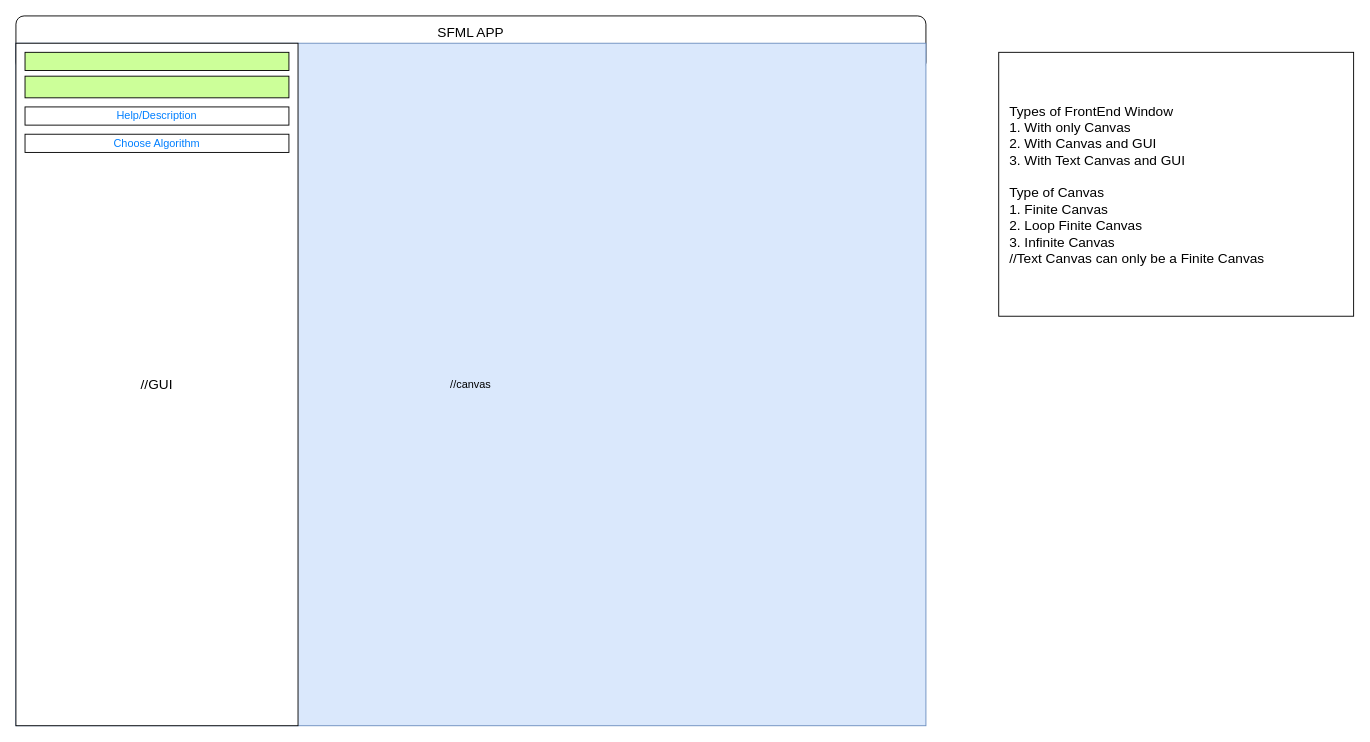
This 1370x742 diagram has some shape labels left out. The box of each missing label's shape, as (x1, y1, x2, y2) in pixels:
Memory Cost: (24, 75, 289, 98)
Time (How long it take to solve it?): (24, 51, 289, 71)
